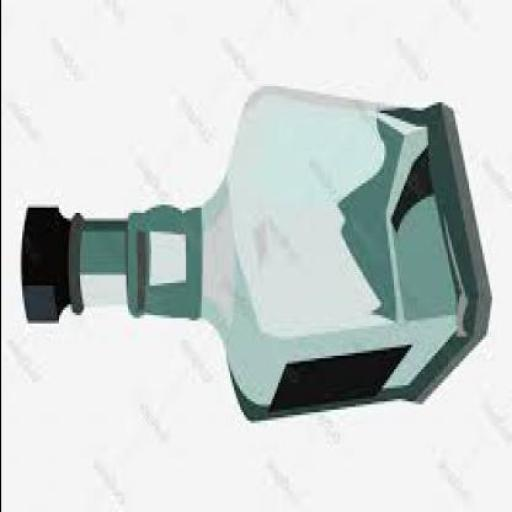glass: (64, 91, 485, 426)
plastic: (17, 207, 62, 323)
